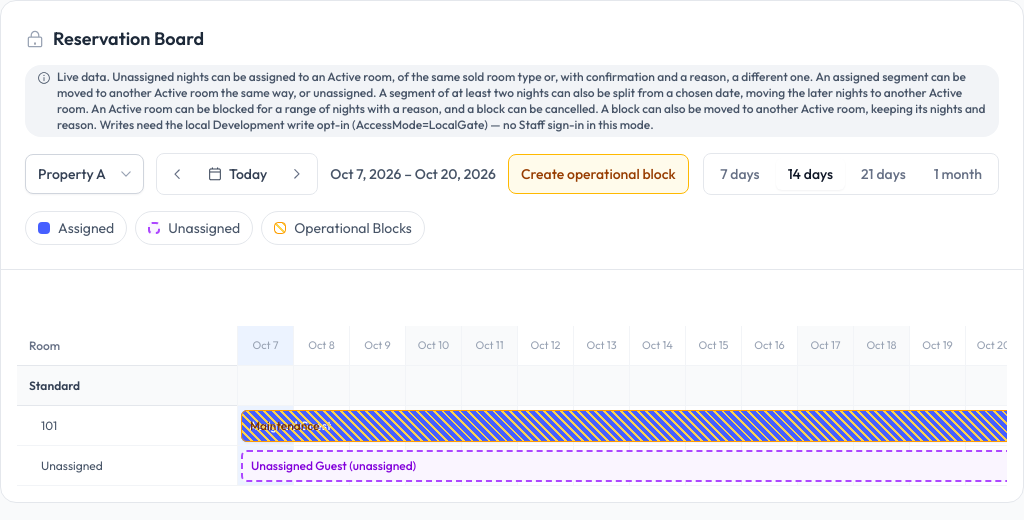
Test: ReservationBoard › still lets the three remaining filters hide/show their own bars on the server-backed timeline
Expected: the button titled "Unassigned Guest — unassigned — CNF-002" is shown, top-left (241, 450), bottom-right (1007, 482)
Expected: the button titled "Maintenance" is shown, top-left (241, 410), bottom-right (1007, 442)
Click the checkbox labelled "Assigned".
click(76, 228)  # box top-left (25, 211), bottom-right (127, 245)
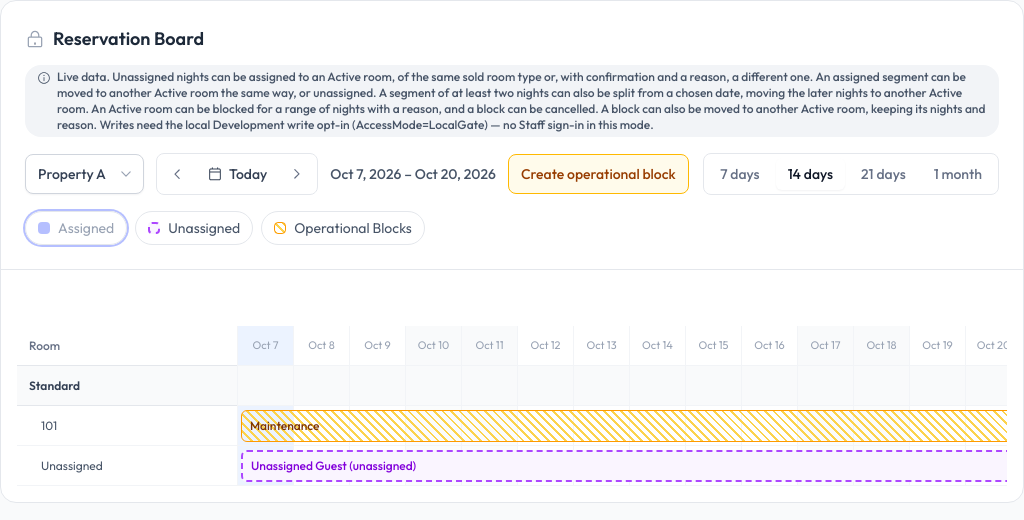
Expected: the button titled "Unassigned Guest — unassigned — CNF-002" is shown, top-left (241, 450), bottom-right (1007, 482)
Expected: the button titled "Maintenance" is shown, top-left (241, 410), bottom-right (1007, 442)
Click the checkbox labelled "Unassigned".
click(194, 228)  # box top-left (135, 211), bottom-right (253, 245)
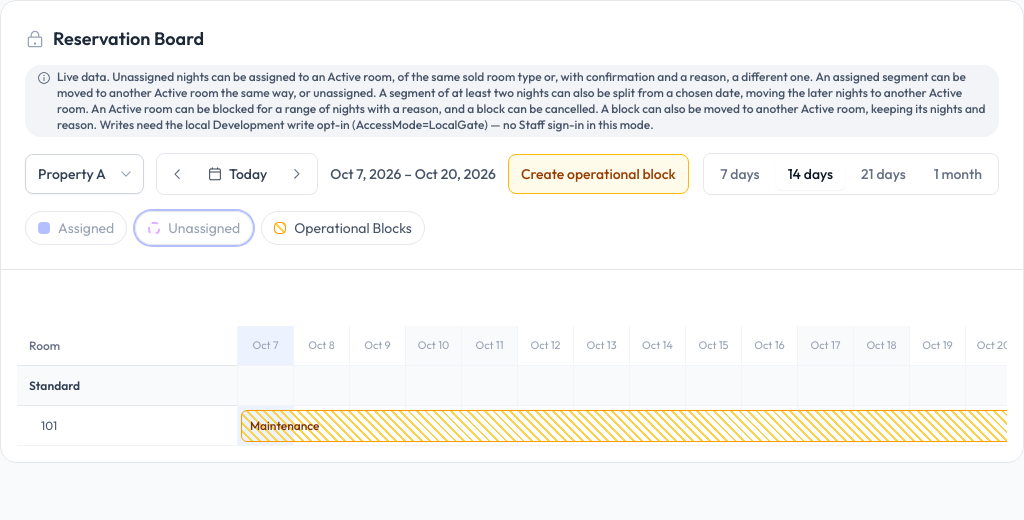
Expected: the button titled "Maintenance" is shown, top-left (241, 410), bottom-right (1007, 442)
Click the checkbox labelled "Operational Blocks".
click(343, 228)  # box top-left (261, 211), bottom-right (425, 245)
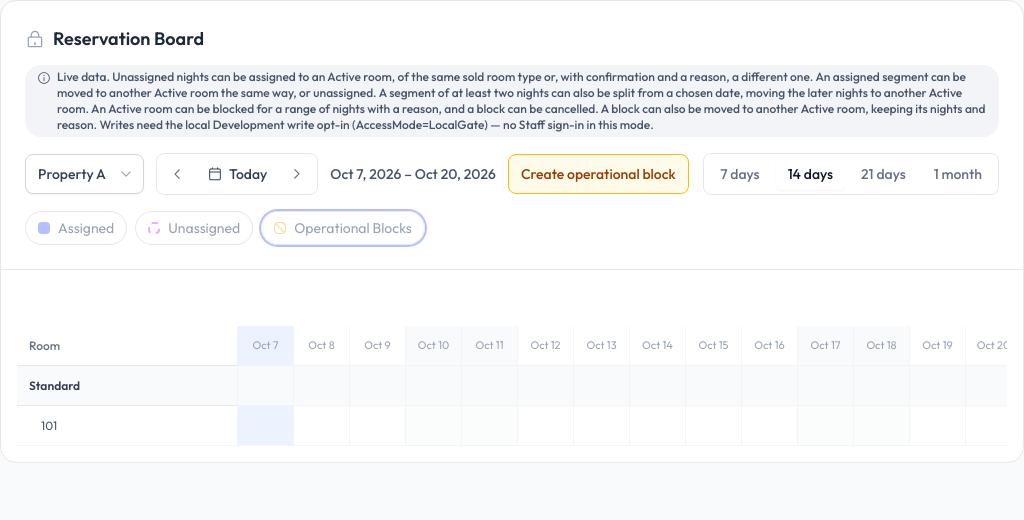
Result: the button titled "Maintenance" is gone
